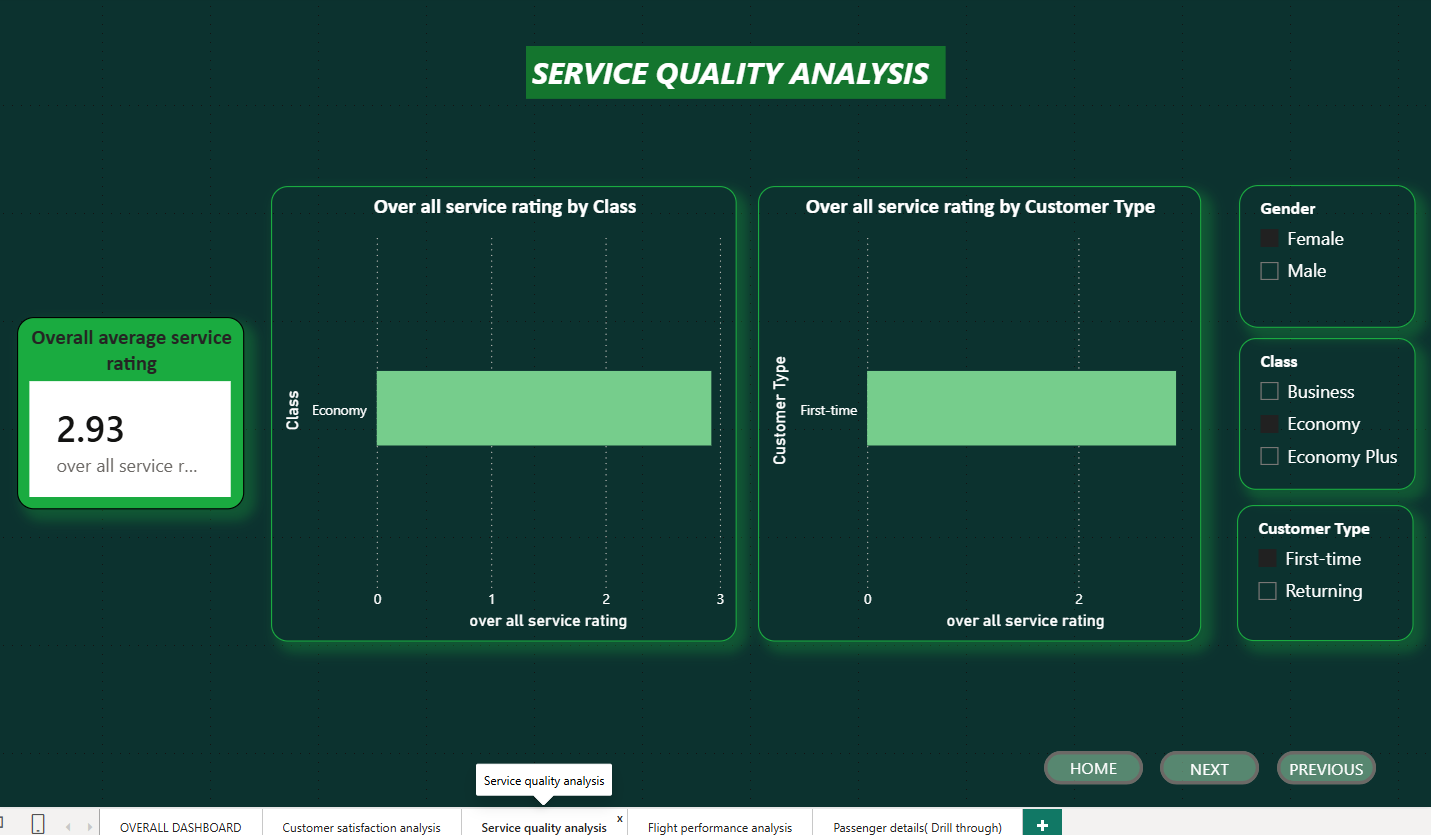

The page's visual inventory and layout, read from the dashboard file:
{"tool":"powerbi","page":{"name":"Service quality analysis","canvas":[1280,720],"ordinal":2},"visuals":[{"type":"cardVisual","title":"Overall average service rating","fields":{"Data":["Table1.over all service rating"]},"box":[20.4,284.3,201.9,171.3],"z":0},{"type":"slicer","fields":{"Values":["Table4.Gender"]},"box":[1106.8,166.7,156.5,126.9],"z":1000},{"type":"slicer","fields":{"Values":["Table4.Class"]},"box":[1106.3,302.9,157.4,134.6],"z":2000},{"type":"slicer","fields":{"Values":["Table4.Customer Type"]},"box":[1105.2,451.6,157.4,120.5],"z":3000},{"type":"clusteredBarChart","title":"Over all service rating by Class","fields":{"Category":["Table4.Class"],"Y":["Table1.over all service rating"]},"box":[246.4,167.6,414,404.7],"z":4000},{"type":"clusteredBarChart","title":"Over all service rating by Customer Type","fields":{"Category":["Table4.Customer Type"],"Y":["Table1.over all service rating"]},"box":[678.9,167.6,393.6,404.7],"z":5000},{"type":"textbox","box":[473.3,43.5,373.3,47.2],"z":6000},{"type":"actionButton","box":[933.3,670,88.1,29.7],"z":7000},{"type":"actionButton","box":[1036.2,670,88.1,29.7],"z":8000},{"type":"actionButton","box":[1140.1,670,88.1,29.7],"z":9000}]}

Visuals, with their boxes on the page's 1280x720 design canvas (x1, y1, x2, y2). These are canvas units, not pixel positions in the 1431x835 screenshot, which may show the page scaled, cropped or inside an application window:
"Overall average service rating" cardVisual: [left=20, top=284, right=222, bottom=456]
slicer - Table4.Gender: [left=1107, top=167, right=1263, bottom=294]
slicer - Table4.Class: [left=1106, top=303, right=1264, bottom=438]
slicer - Table4.Customer Type: [left=1105, top=452, right=1263, bottom=572]
"Over all service rating by Class" clusteredBarChart: [left=246, top=168, right=660, bottom=572]
"Over all service rating by Customer Type" clusteredBarChart: [left=679, top=168, right=1072, bottom=572]
textbox: [left=473, top=44, right=847, bottom=91]
actionButton: [left=933, top=670, right=1021, bottom=700]
actionButton: [left=1036, top=670, right=1124, bottom=700]
actionButton: [left=1140, top=670, right=1228, bottom=700]
